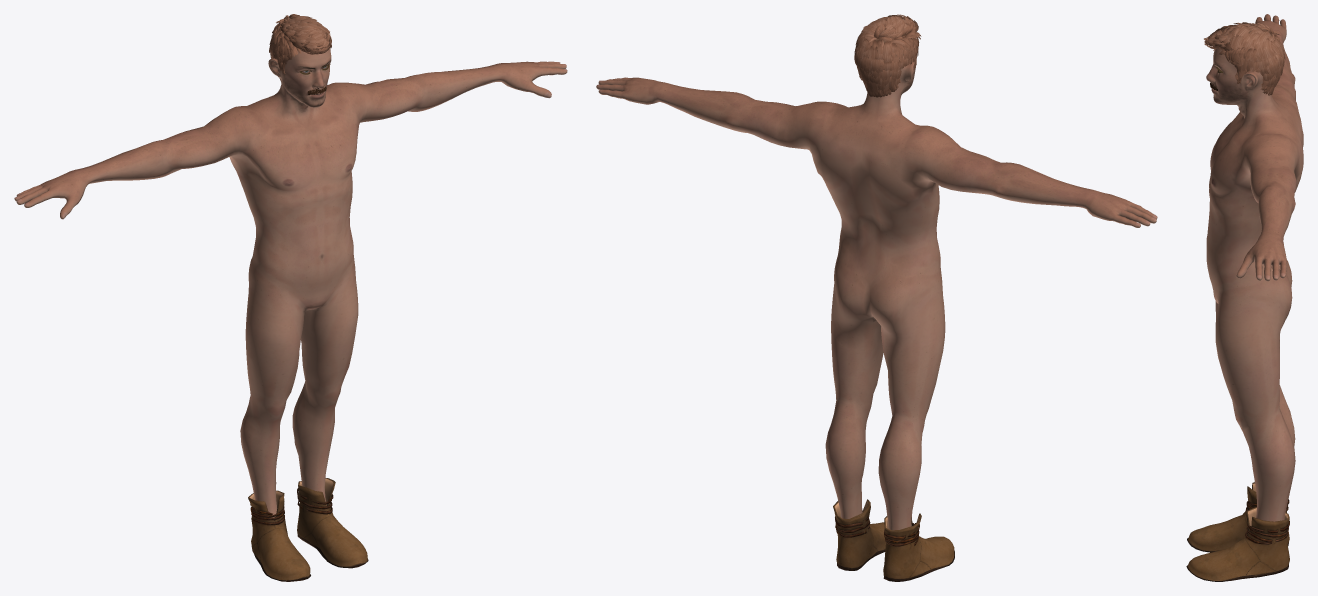
The model's file is ottomansoldier5.obj.
3 renders of one model, left to right at view 1: azimuth 30°, elevation 25°; view 2: azimuth 150°, elevation 25°; view 3: azimuth 270°, elevation 25°, orthographic.
Parts seen in each view (by area): view 1: Body, Shoes, Hair; view 2: Body, Shoes, Hair; view 3: Body, Shoes, Hair.
Part boxes in pixels (x1,y1,x2,y2): Body: [14, 22, 567, 517]; Shoes: [248, 478, 368, 581]; Hair: [269, 14, 331, 77]; Body: [596, 39, 1157, 530]; Shoes: [833, 499, 954, 581]; Hair: [854, 14, 921, 97]; Body: [1206, 14, 1303, 521]; Shoes: [1186, 482, 1289, 581]; Hair: [1204, 22, 1285, 95].
Bounding box in the file's own units: 194 × 182 × 36.
2 materials, 2 textured.
